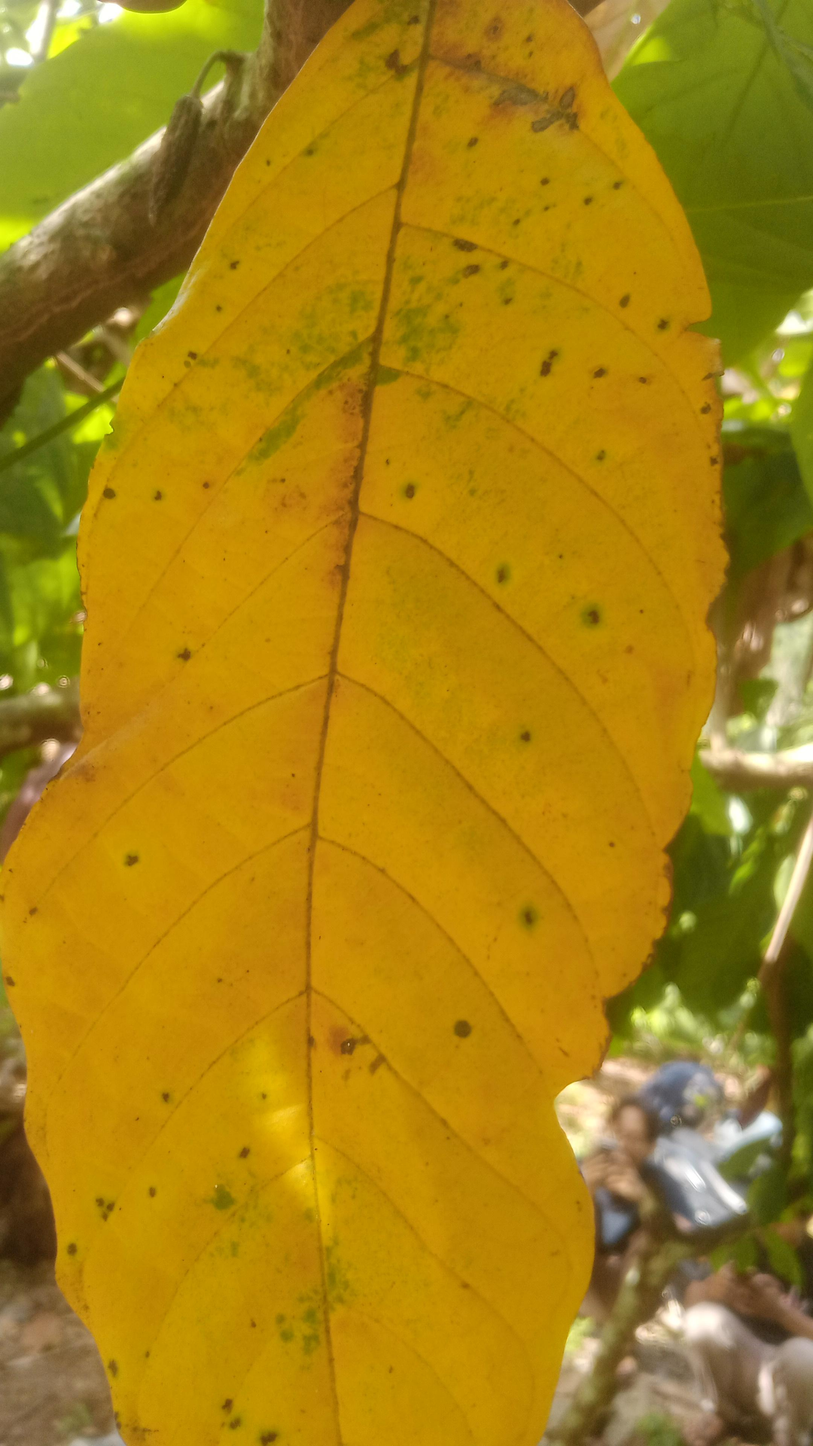deficiencia_potasio: (0, 0, 733, 1446)
